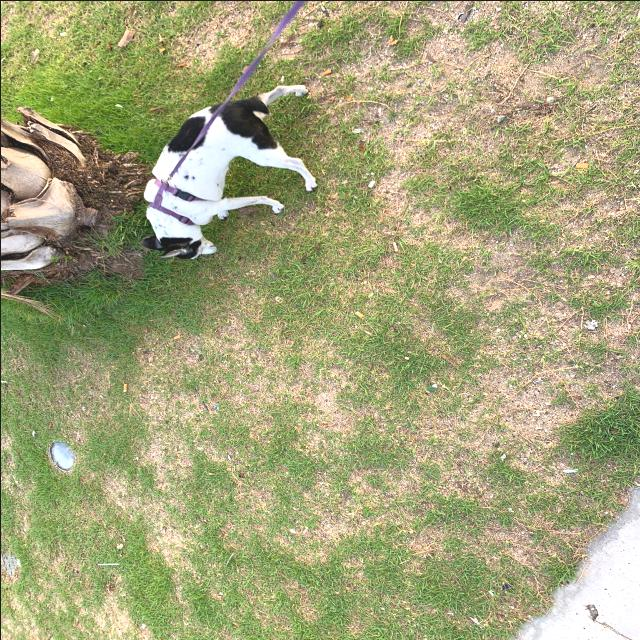Cigarette: (322, 68, 333, 76), (354, 310, 362, 318), (172, 333, 181, 339), (122, 382, 127, 392)
Pop tab: (274, 295, 282, 302)
